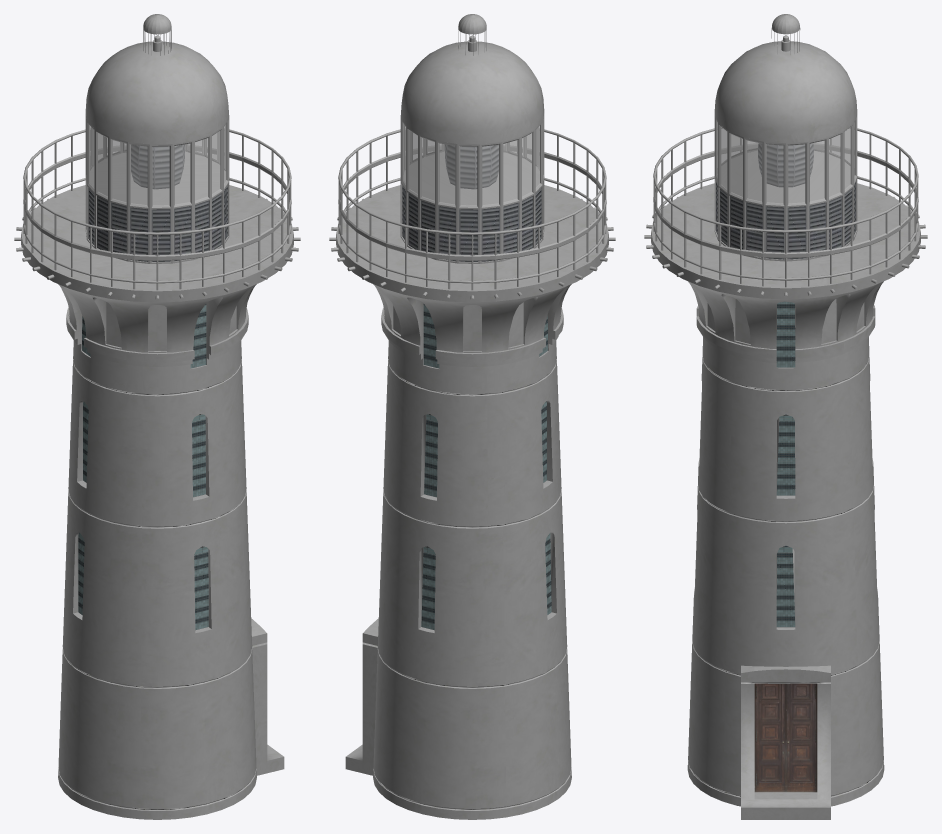
File: lighthouse.glb
3 renders of one model, left to right at view 1: azimuth 30°, elevation 25°; view 2: azimuth 150°, elevation 25°; view 3: azimuth 270°, elevation 25°, orthographic.
Visible parts, largest first — view 1: Object_5, Object_8, Object_10, Object_11, Object_14, Object_9, Object_6, Object_13, Object_16; view 2: Object_5, Object_8, Object_10, Object_11, Object_14, Object_9, Object_6, Object_13, Object_16; view 3: Object_5, Object_8, Object_10, Object_4, Object_11, Object_14, Object_9, Object_6, Object_13, Object_16.
Boxes of the visible parts, x1,y1,x2,y2 form: Object_5: (21,185,293,819); Object_8: (85,14,229,144); Object_10: (85,112,229,263); Object_11: (90,123,226,205); Object_14: (23,131,291,290); Object_9: (88,185,227,261); Object_6: (78,304,208,630); Object_13: (14,30,300,301); Object_16: (131,144,184,188); Object_5: (336,185,608,819); Object_8: (400,14,544,144); Object_10: (400,112,544,263); Object_11: (403,123,539,205); Object_14: (338,131,606,290); Object_9: (402,185,541,261); Object_6: (421,304,551,630); Object_13: (329,30,615,301); Object_16: (445,144,498,188); Object_5: (651,183,920,819); Object_8: (714,14,857,143); Object_10: (714,114,857,261); Object_4: (754,683,817,792); Object_11: (717,122,854,203); Object_14: (653,134,918,287); Object_9: (716,182,855,259); Object_6: (776,301,795,627); Object_13: (644,28,927,298); Object_16: (758,143,813,186).
Size of the model in its own units: 5.72 by 16.82 by 5.72.
Materials: 6 (5 with a texture image).
